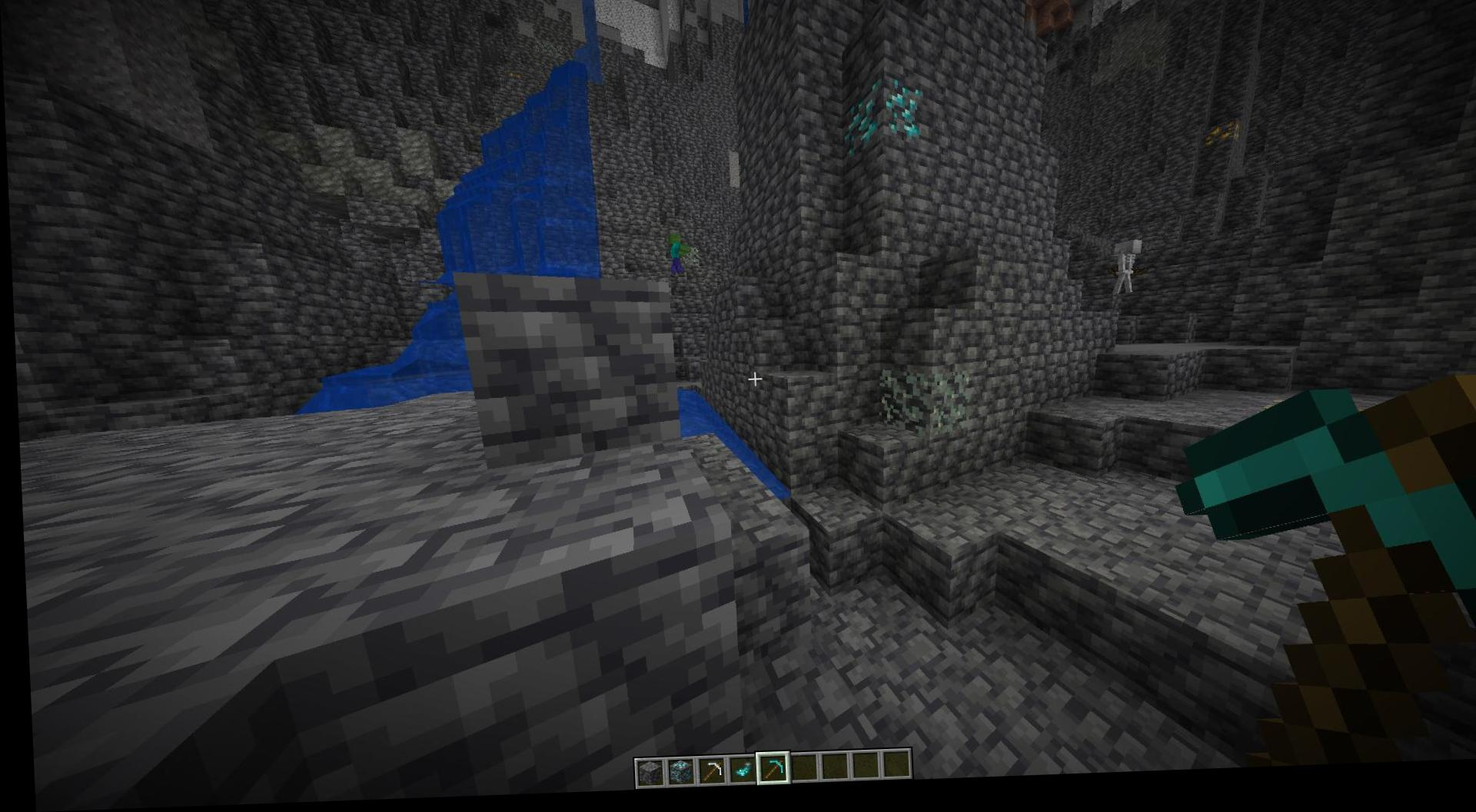diamond ore: (838, 91, 885, 160), (881, 81, 921, 152)
gold ore: (1203, 130, 1240, 154)
